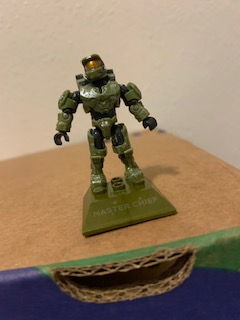chief: (54, 53, 158, 195)
spartan: (52, 51, 156, 193)
